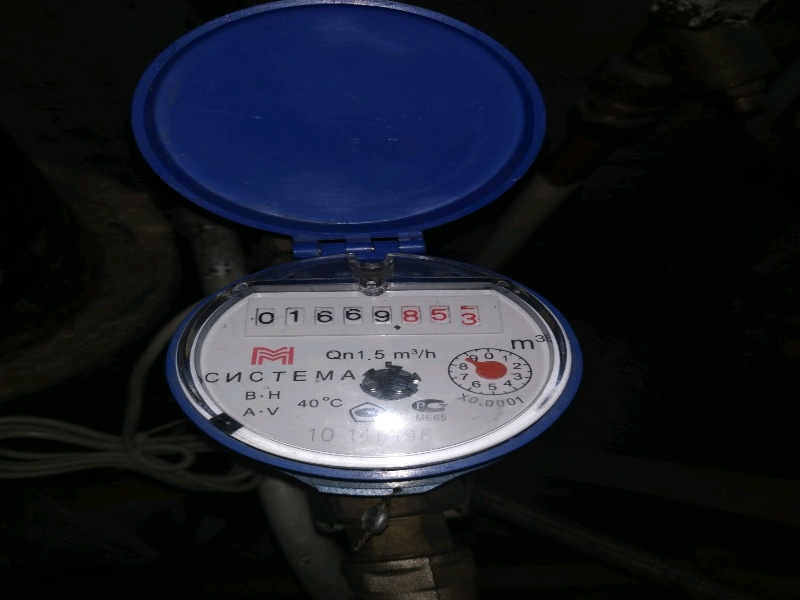meter: (242, 296, 505, 333)
